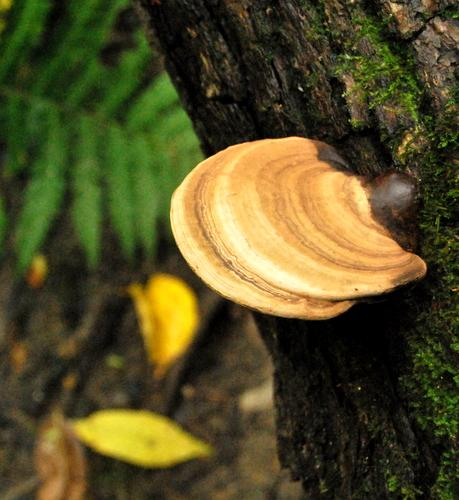Ganoderma - Fruit Body: (164, 129, 440, 326)
